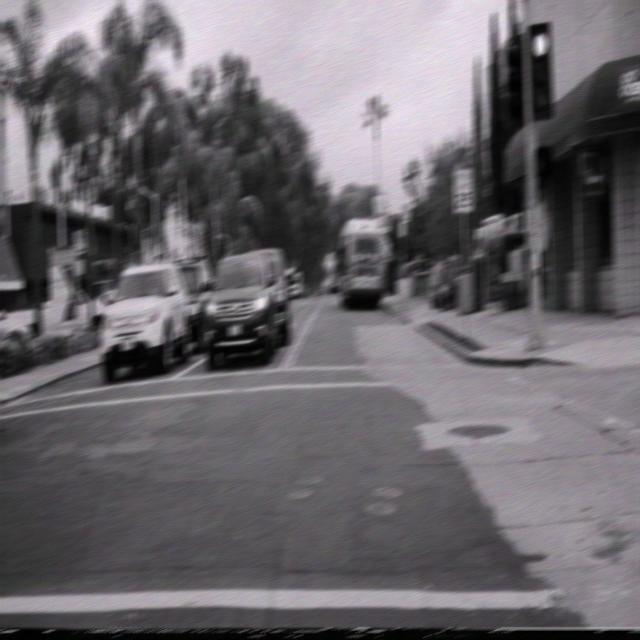speedLimit25: (451, 166, 473, 213)
